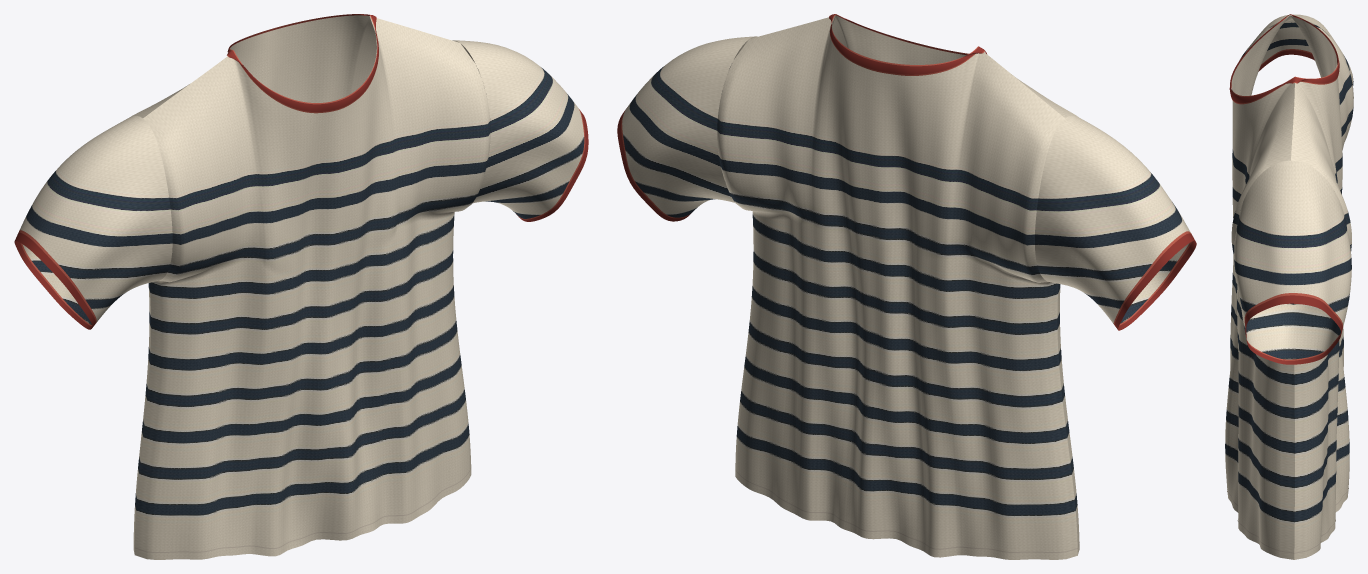
The model's file is striped-tee.glb.
The picture shows the model from 3 angles, left to right: view 1: azimuth 30°, elevation 25°; view 2: azimuth 150°, elevation 25°; view 3: azimuth 270°, elevation 25°; orthographic projection. The views are drawn at different scales.
Parts seen in each view (by area): view 1: Mariniere tee; view 2: Mariniere tee; view 3: Mariniere tee.
Boxes of the visible parts, bbox=[...] form: Mariniere tee: bbox=[14, 14, 588, 559]; Mariniere tee: bbox=[617, 14, 1196, 559]; Mariniere tee: bbox=[1225, 14, 1353, 559].
Bounding box in the file's own units: 0.858 × 0.7224 × 0.1874.
4 materials, 1 textured.
